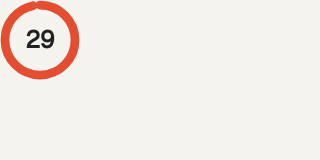
Test: ชุดที่สาม #14: กดวงนับถอยหลังแล้วเวลากลับไปเต็ม
Expected: the text "29" is shown, [26,24,54,55]
Click the button named "เริ่มจับเวลาใหม่": (40, 40) [0,0,80,80]
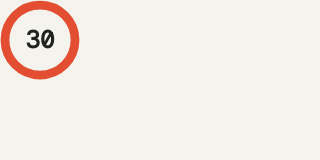
Now the text "30" is shown, box [26,24,54,55]
